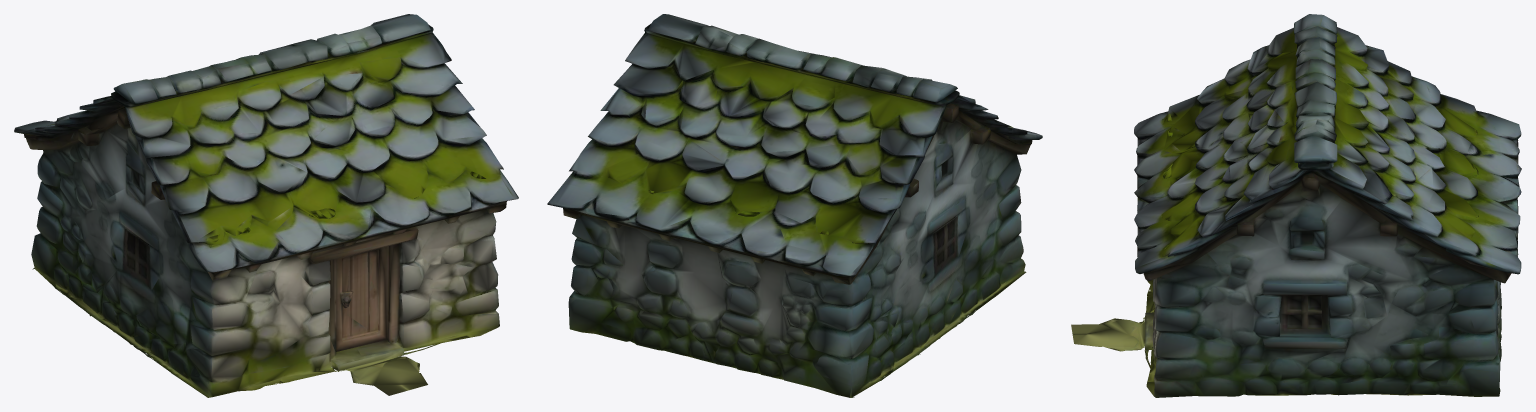
The model's file is borda-DLe73a0j.glb.
The picture shows the model from 3 angles, left to right: view 1: azimuth 30°, elevation 25°; view 2: azimuth 150°, elevation 25°; view 3: azimuth 270°, elevation 25°; orthographic projection. The views are drawn at different scales.
Visible parts, largest first — view 1: node_0; view 2: node_0; view 3: node_0.
Boxes of the visible parts, x1,y1,x2,y2 form: node_0: (14,14,518,397); node_0: (547,14,1042,397); node_0: (1071,14,1521,397).
Size of the model in its own units: 0.693 by 0.5262 by 0.8762.
Materials: 1 (1 with a texture image).
